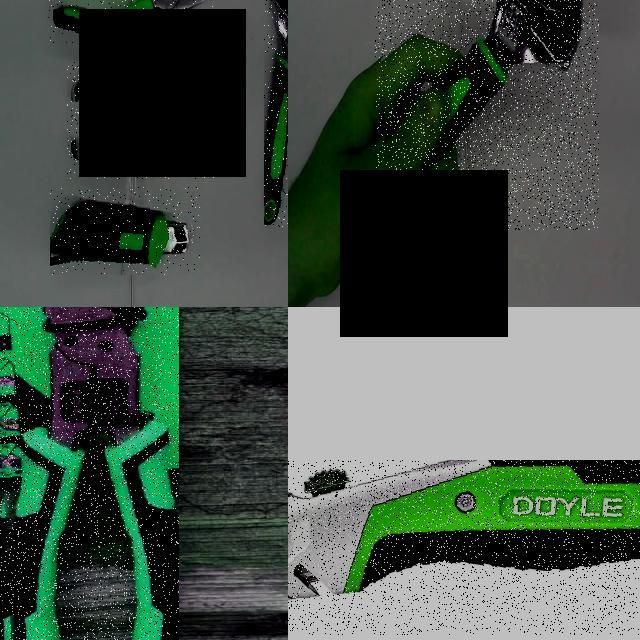estilete: (51, 201, 188, 266)
